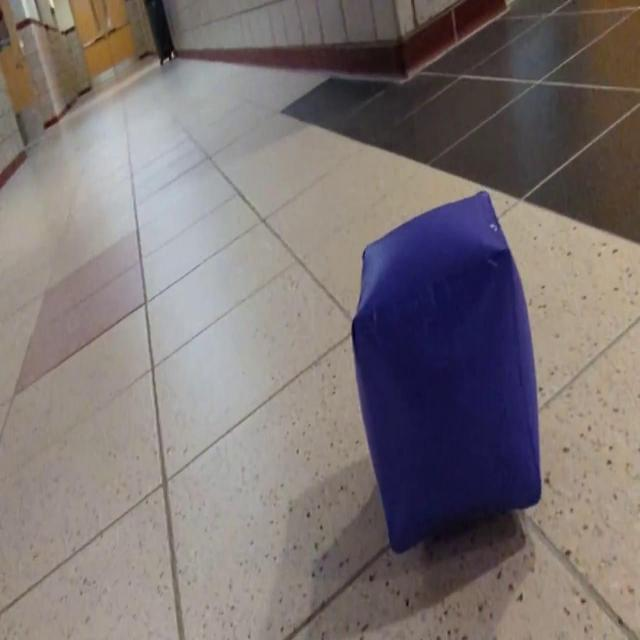frc_cube: (351, 189, 543, 551)
